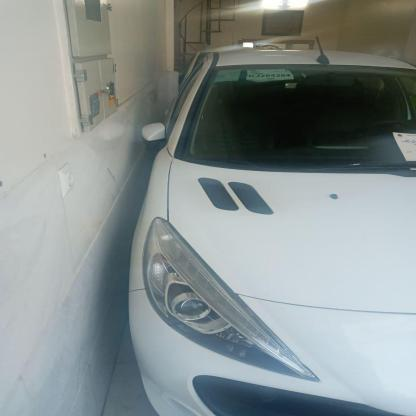Car: (117, 40, 416, 416)
